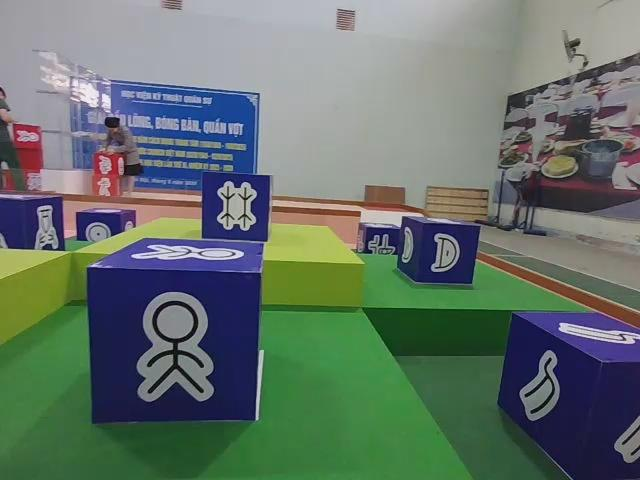R2 Real Blue: (91, 230, 268, 425), (499, 309, 640, 480), (396, 217, 481, 288), (201, 173, 272, 246), (0, 194, 62, 251), (73, 208, 134, 242), (354, 221, 401, 254)
